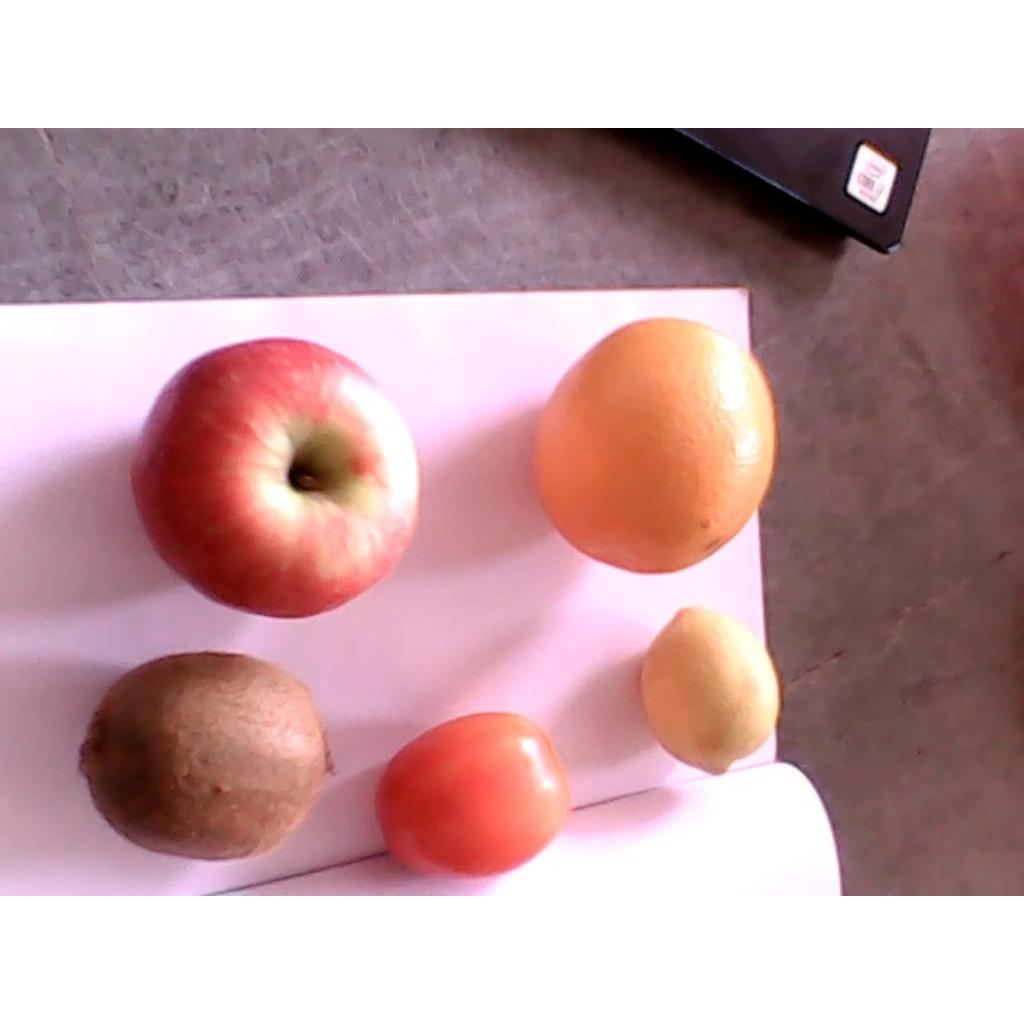apple: (131, 339, 422, 618)
kiwi: (77, 650, 338, 860)
lemon: (640, 606, 780, 774)
orange: (532, 319, 776, 572)
tomato: (371, 713, 567, 875)
